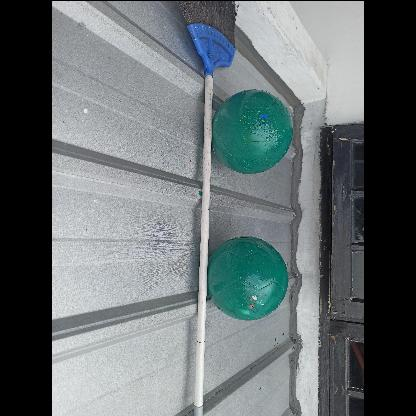green_ball: (214, 92, 298, 176), (207, 238, 291, 322)
